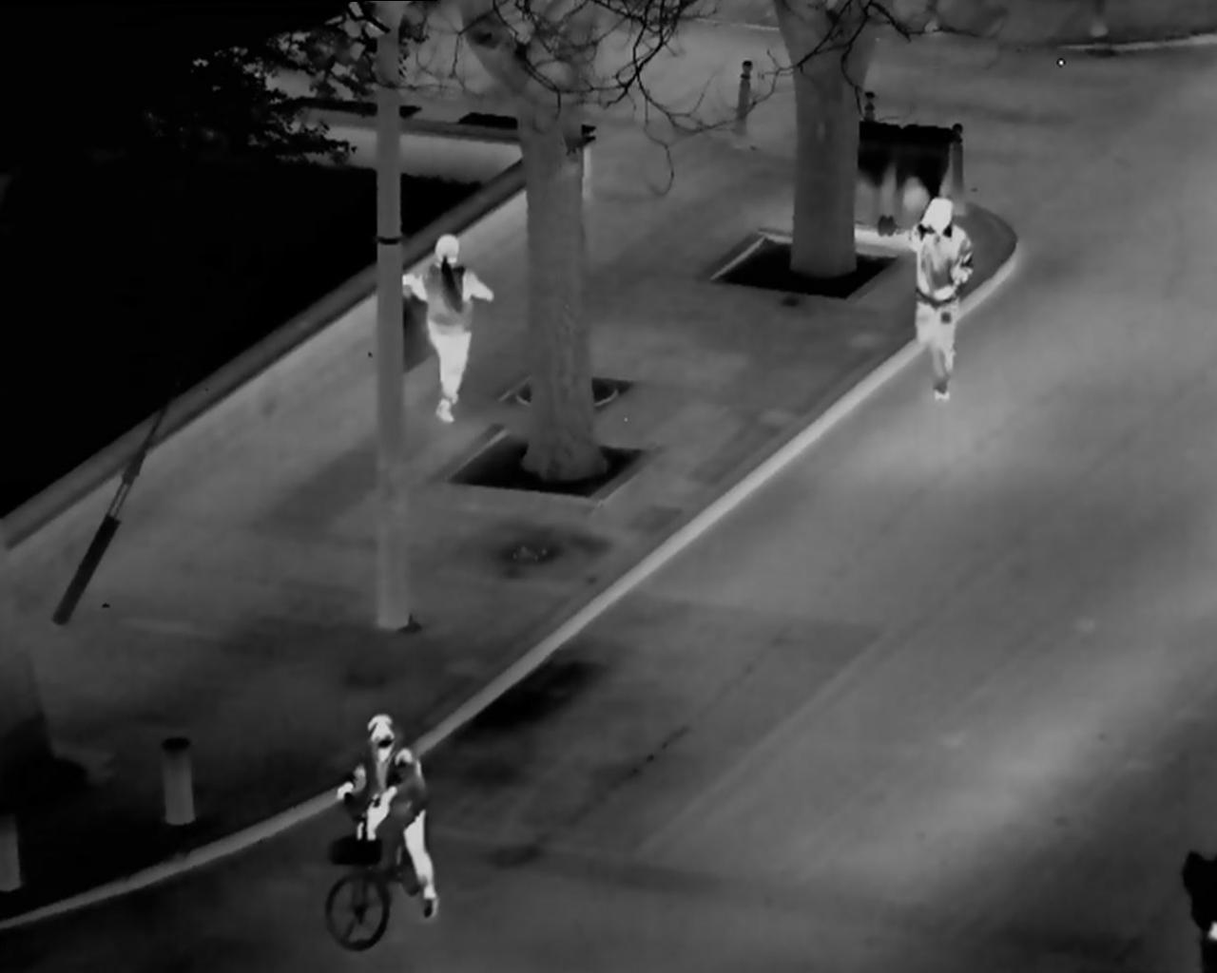person: (327, 707, 457, 946), (890, 183, 984, 407), (399, 220, 493, 414)
